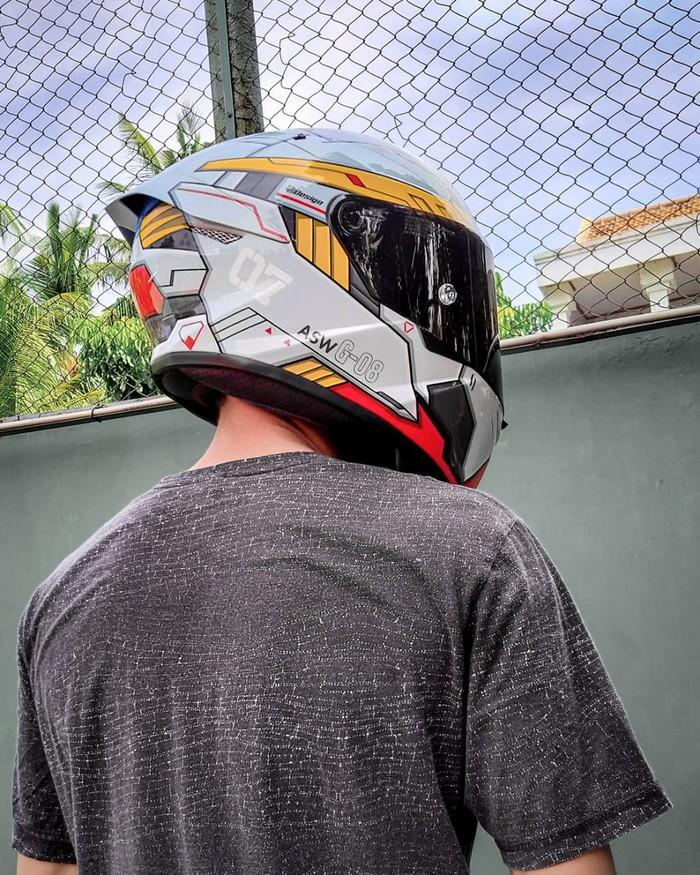helmet: (96, 120, 507, 488)
